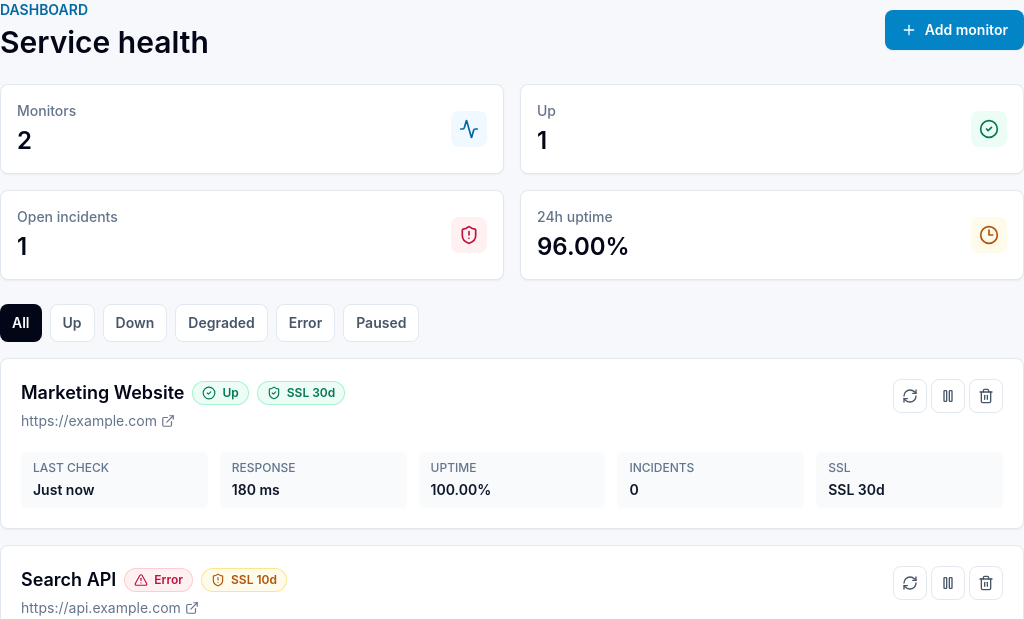
Test: DashboardPage › filters monitors by status
The width and height of the screenshot is (1024, 619).
Check: the link "Marketing Website" is shown, box [21,379,184,407]
Check: the link "Search API" is shown, box [21,566,116,594]
Click the button "Error". click: point(305, 323)
box: [276,304,335,342]
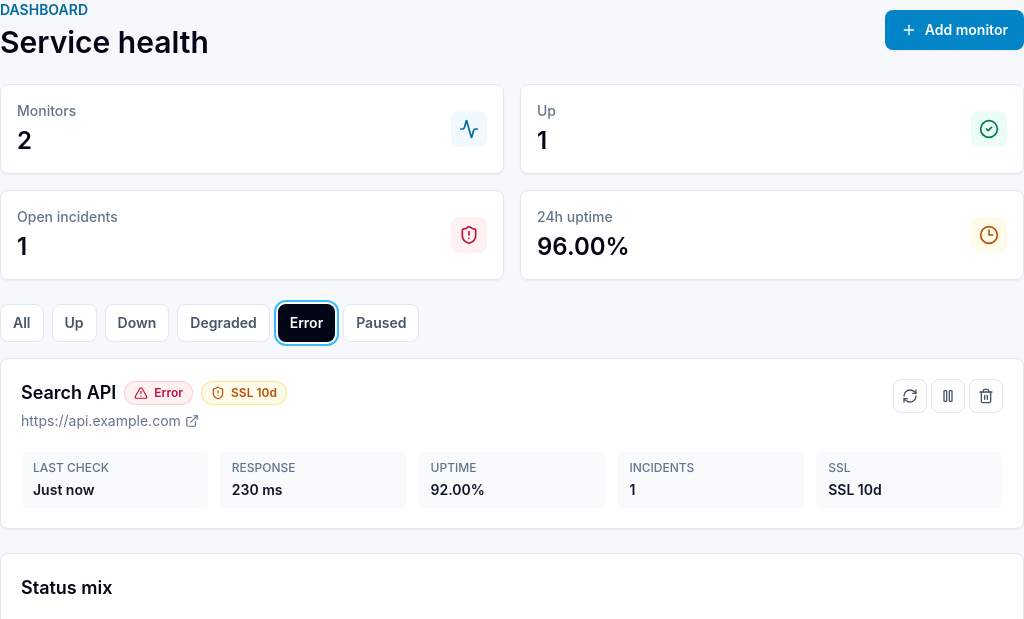
Check: the link "Search API" is shown, box [21,379,116,407]
Check: the link "Marketing Website" is gone
